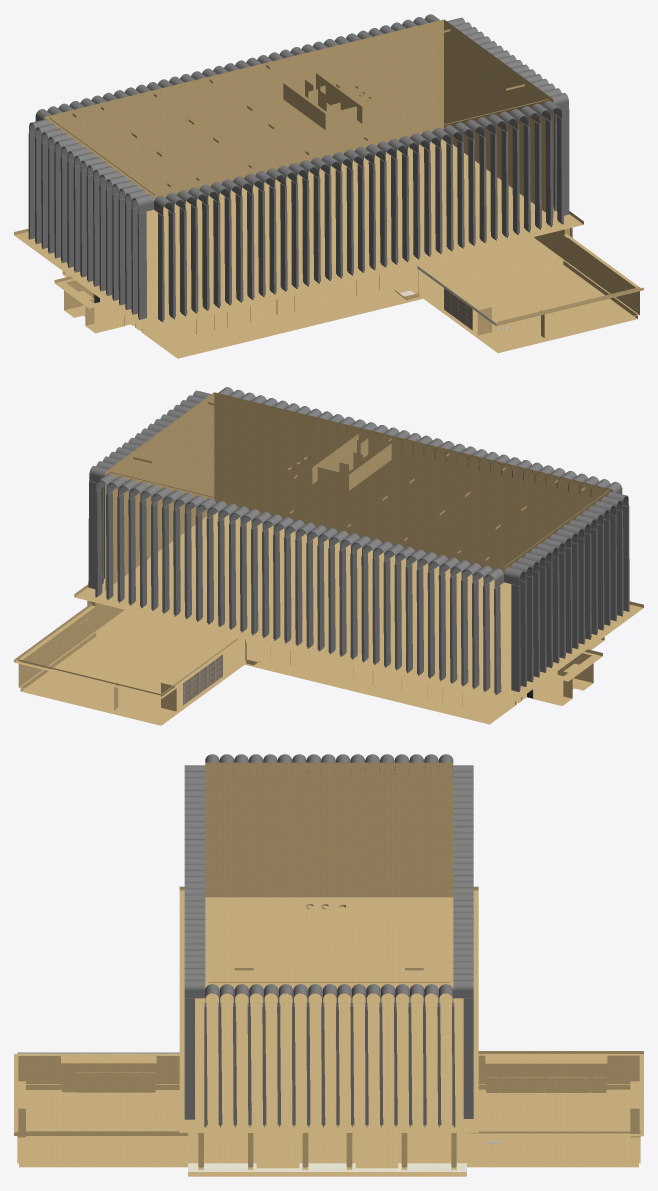
File: ttu.gltf
The picture shows the model from 3 angles, top to bottom: view 1: azimuth 30°, elevation 25°; view 2: azimuth 150°, elevation 25°; view 3: azimuth 270°, elevation 25°; orthographic projection. The views are drawn at different scales.
Parts seen in each view (by area): view 1: Component#1, Component#2 (×2), Component#3 (×2); view 2: Component#1, Component#2 (×2), Component#3 (×2); view 3: Component#1, Component#3 (×2), Component#2 (×2).
Boxes of the visible parts, x1,y1,x2,y2 form: Component#1: (14, 19, 643, 358); Component#2 (×2): (35, 14, 563, 321); Component#3 (×2): (28, 17, 569, 319); Component#1: (14, 392, 643, 725); Component#2 (×2): (95, 387, 622, 694); Component#3 (×2): (88, 390, 629, 691); Component#1: (14, 762, 643, 1176); Component#3 (×2): (204, 754, 455, 1127); Component#2 (×2): (184, 765, 473, 1119).
Size of the model in its own units: 113 by 42.82 by 122.
9 materials, 7 textured.
